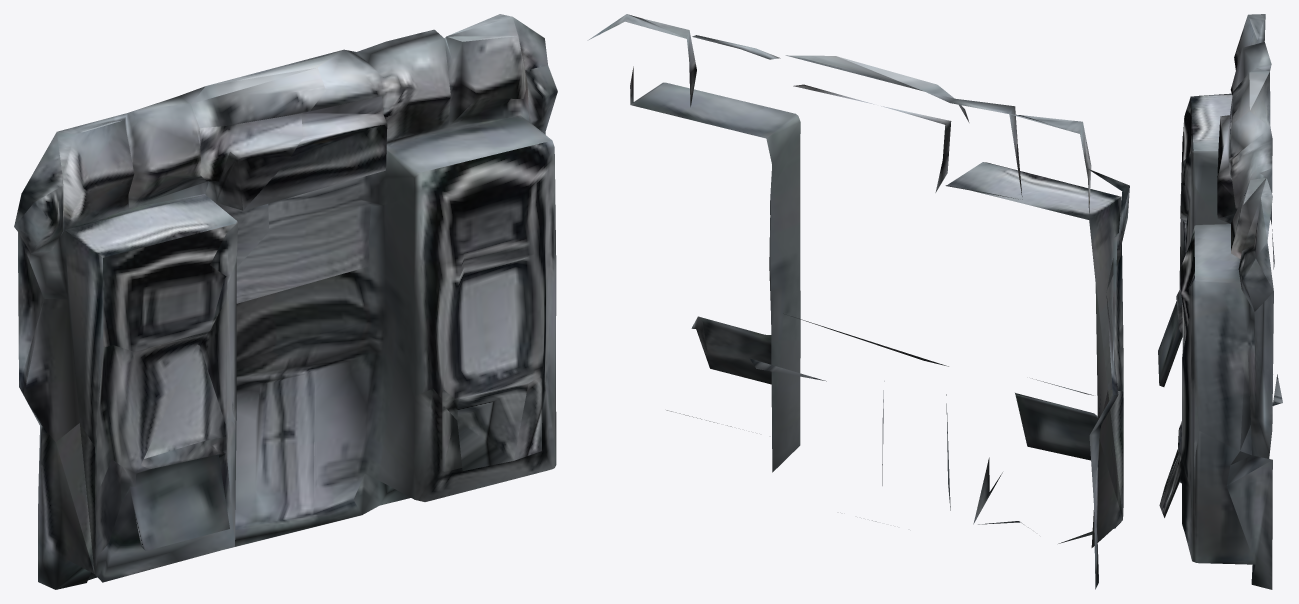
File: hangar_wall_panel_d.glb
The picture shows the model from 3 angles, left to right: view 1: azimuth 30°, elevation 25°; view 2: azimuth 150°, elevation 25°; view 3: azimuth 270°, elevation 25°; orthographic projection. The views are drawn at different scales.
Visible parts, largest first — view 1: hangar_wall_panel_d; view 2: hangar_wall_panel_d; view 3: hangar_wall_panel_d.
Part boxes in pixels (left/top/right/bottom): hangar_wall_panel_d: left=14, top=14, right=557, bottom=589; hangar_wall_panel_d: left=587, top=14, right=1129, bottom=589; hangar_wall_panel_d: left=1158, top=14, right=1282, bottom=589.
Bounding box in the file's own units: 0.1153 × 0.0966 × 0.0279.
1 material, 1 textured.
